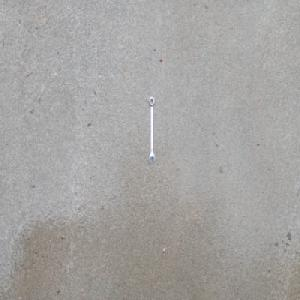Wrench: (148, 95, 156, 165)
